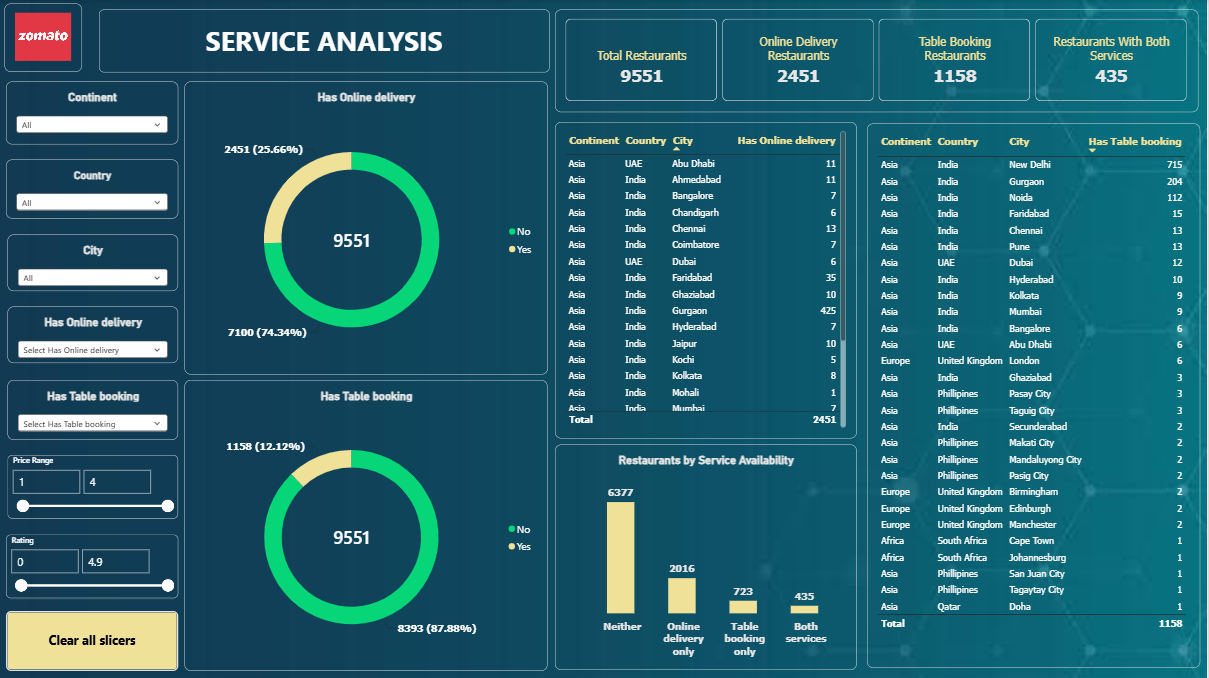

What the dashboard file says about the page in this screenshot:
{"tool":"powerbi","page":{"name":"Service Analysis","canvas":[1920,1080],"ordinal":3},"visuals":[{"type":"image","box":[0,0,1920,1080],"z":0},{"type":"image","box":[8.3,8.3,123.3,108.3],"z":1000},{"type":"listSlicer","fields":{"Values":["Append1.Continent Hierarchy.Continent"]},"box":[10,131.4,274.3,100],"z":2000},{"type":"listSlicer","fields":{"Values":["Append1.Continent Hierarchy.Country"]},"box":[10,255.7,274.3,94.3],"z":3000},{"type":"listSlicer","fields":{"Values":["Append1.Continent Hierarchy.City"]},"box":[12.9,375.7,271.4,90],"z":4000},{"type":"listSlicer","fields":{"Values":["KPIs.Has Online delivery"]},"box":[12.9,490,271.4,90],"z":5000},{"type":"listSlicer","fields":{"Values":["KPIs.Has Table booking"]},"box":[12.5,605,271.2,95],"z":6000},{"type":"slicer","title":"Rating","fields":{"Values":["KPIs.Price range"]},"box":[12.9,725.7,271.4,101.4],"z":7000},{"type":"slicer","title":"Rating","fields":{"Values":["KPIs.Aggregate rating"]},"box":[10,852.9,274.3,101.4],"z":8000},{"type":"actionButton","box":[10,972.5,273.8,95],"z":9000},{"type":"textbox","box":[156.7,16.7,716.7,100],"z":10000},{"type":"cardVisual","fields":{"Data":["Rest Measures.Total Restaurants","Rest Measures.Online Delivery Restaurants","Rest Measures.Table Booking Restaurants","Rest Measures.Both Online Delivery and Table Booking"]},"box":[883.3,16.7,1023.3,163.3],"z":11000},{"type":"clusteredColumnChart","fields":{"Category":["KPIs.Service Availability"],"Y":["CountNonNull(KPIs.Restaurant ID)"]},"box":[882.2,708.9,480,358.9],"z":12000},{"type":"donutChart","title":"Has Online delivery","fields":{"Category":["KPIs.Has Online delivery"],"Y":["CountNonNull(KPIs.Has Online delivery)"]},"box":[294,132,578,466],"z":13000},{"type":"donutChart","title":"Has Table booking","fields":{"Category":["KPIs.Has Table booking"],"Y":["CountNonNull(KPIs.Has Table booking)"]},"box":[294.2,605,577.5,462.5],"z":14000},{"type":"tableEx","fields":{"Values":["Append1.Continent Hierarchy.Continent","Append1.Continent Hierarchy.Country","Append1.Continent Hierarchy.City","KPIs.Has Online delivery"]},"box":[883.3,196.7,480,503.3],"z":15000},{"type":"tableEx","fields":{"Values":["Append1.Continent Hierarchy.Continent","Append1.Continent Hierarchy.Country","Append1.Continent Hierarchy.City","KPIs.Has Table booking"]},"box":[1378,198,530,866],"z":16000}]}

Visuals, with their boxes in screenshot pixels (x1, y1, x2, y2), scaled from the page's 1920x1080 canvas onto the 1209x678 screenshot:
image: box(0, 0, 1208, 677)
image: box(5, 5, 83, 73)
listSlicer - Append1.Continent Hierarchy.Continent: box(6, 82, 179, 145)
listSlicer - Append1.Continent Hierarchy.Country: box(6, 161, 179, 220)
listSlicer - Append1.Continent Hierarchy.City: box(8, 236, 179, 292)
listSlicer - KPIs.Has Online delivery: box(8, 308, 179, 364)
listSlicer - KPIs.Has Table booking: box(8, 380, 179, 439)
"Rating" slicer: box(8, 456, 179, 519)
"Rating" slicer: box(6, 535, 179, 599)
actionButton: box(6, 611, 179, 670)
textbox: box(99, 10, 550, 73)
cardVisual - Rest Measures.Total Restaurants x Rest Measures.Online Delivery Restaurants: box(556, 10, 1201, 113)
clusteredColumnChart - KPIs.Service Availability x CountNonNull(KPIs.Restaurant ID): box(556, 445, 858, 670)
"Has Online delivery" donutChart: box(185, 83, 549, 375)
"Has Table booking" donutChart: box(185, 380, 549, 670)
tableEx - Append1.Continent Hierarchy.Continent x Append1.Continent Hierarchy.Country: box(556, 123, 858, 439)
tableEx - Append1.Continent Hierarchy.Continent x Append1.Continent Hierarchy.Country: box(868, 124, 1201, 668)
